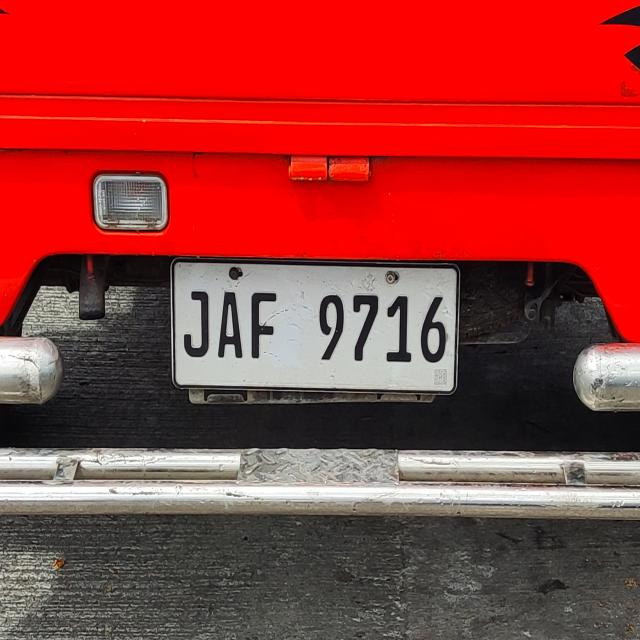plate: (168, 253, 462, 398)
